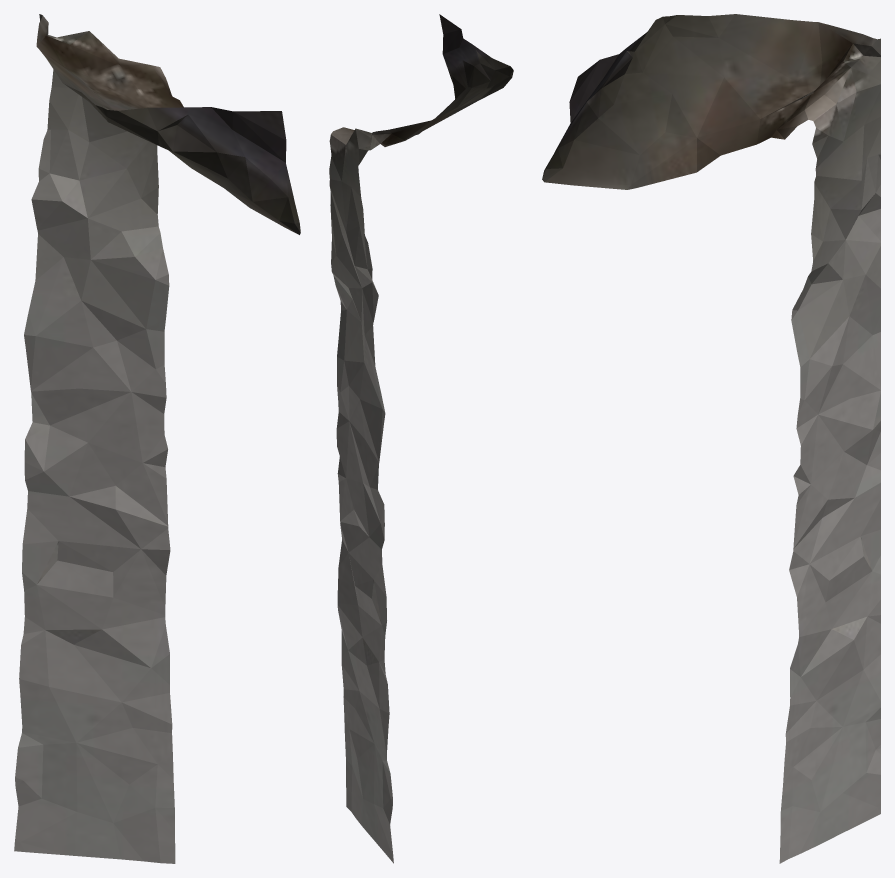
3 views of the same model, side by side, from view 1: azimuth 30°, elevation 25°; view 2: azimuth 150°, elevation 25°; view 3: azimuth 270°, elevation 25° (orthographic). The views are drawn at different scales.
Bounding box in the file's own units: 0.1434 × 0.8373 × 0.3266.
Materials: 1 (1 with a texture image).
